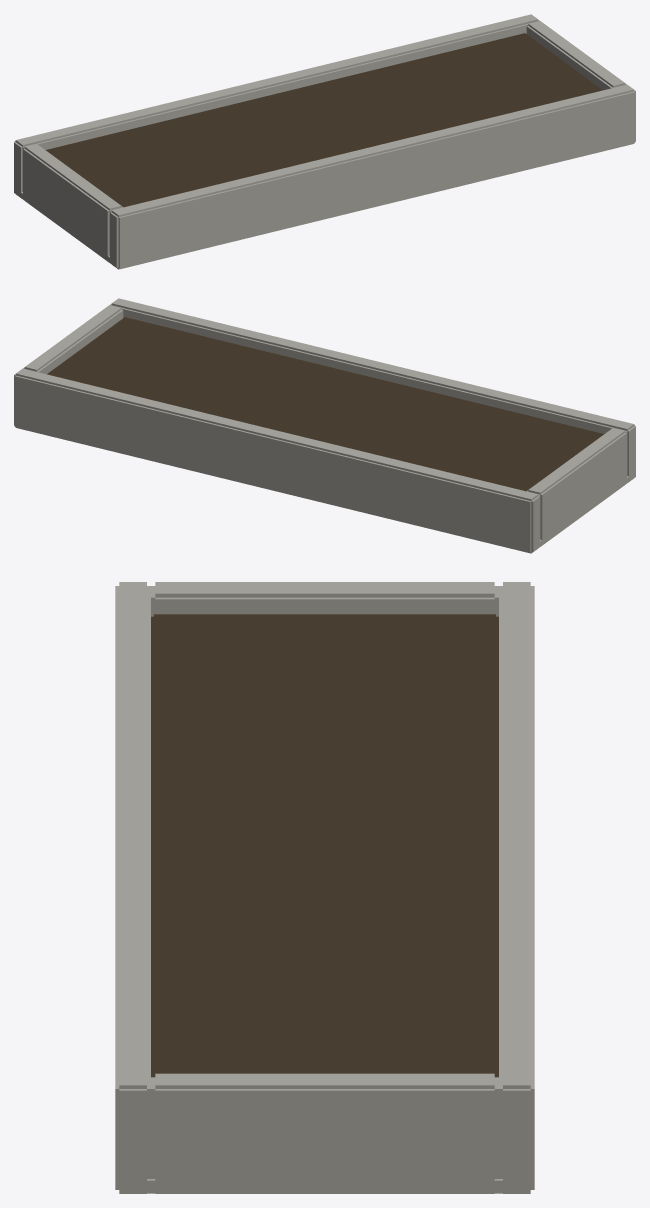
Rendered from raised_roof_bed.glb.
3 renders of one model, top to bottom at view 1: azimuth 30°, elevation 25°; view 2: azimuth 150°, elevation 25°; view 3: azimuth 270°, elevation 25°, orthographic. The views are drawn at different scales.
Visible parts, largest first — view 1: raised_roof_bed_Honed_cast_stone_planter, raised_roof_bed_Organic_planting_medium; view 2: raised_roof_bed_Honed_cast_stone_planter, raised_roof_bed_Organic_planting_medium; view 3: raised_roof_bed_Organic_planting_medium, raised_roof_bed_Honed_cast_stone_planter.
Part boxes in pixels (x1,y1,x2,y2): raised_roof_bed_Honed_cast_stone_planter: [14, 14, 635, 269]; raised_roof_bed_Organic_planting_medium: [45, 33, 602, 207]; raised_roof_bed_Honed_cast_stone_planter: [14, 298, 635, 553]; raised_roof_bed_Organic_planting_medium: [47, 317, 604, 491]; raised_roof_bed_Organic_planting_medium: [151, 614, 498, 1077]; raised_roof_bed_Honed_cast_stone_planter: [115, 582, 534, 1193].
Bounding box in the file's own units: 4 × 0.4 × 1.4.
